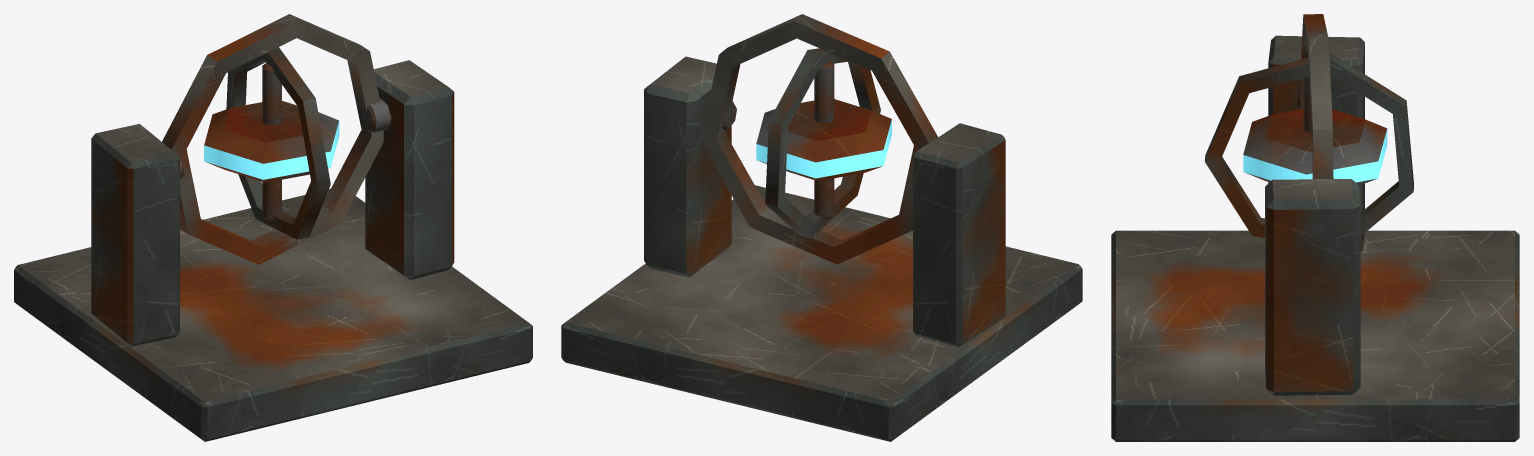
File: R4X_Gyroscope_LOD1.glb
The picture shows the model from 3 angles, left to right: view 1: azimuth 30°, elevation 25°; view 2: azimuth 150°, elevation 25°; view 3: azimuth 270°, elevation 25°; orthographic projection. The views are drawn at different scales.
Visible parts, largest first — view 1: R4X_Gyroscope_LOD1; view 2: R4X_Gyroscope_LOD1; view 3: R4X_Gyroscope_LOD1.
Boxes of the visible parts, x1,y1,x2,y2 form: R4X_Gyroscope_LOD1: [14, 14, 532, 441]; R4X_Gyroscope_LOD1: [561, 14, 1082, 441]; R4X_Gyroscope_LOD1: [1111, 14, 1519, 441].
Size of the model in its own units: 0.52 by 0.4646 by 0.52.
Materials: 5 (4 with a texture image).
